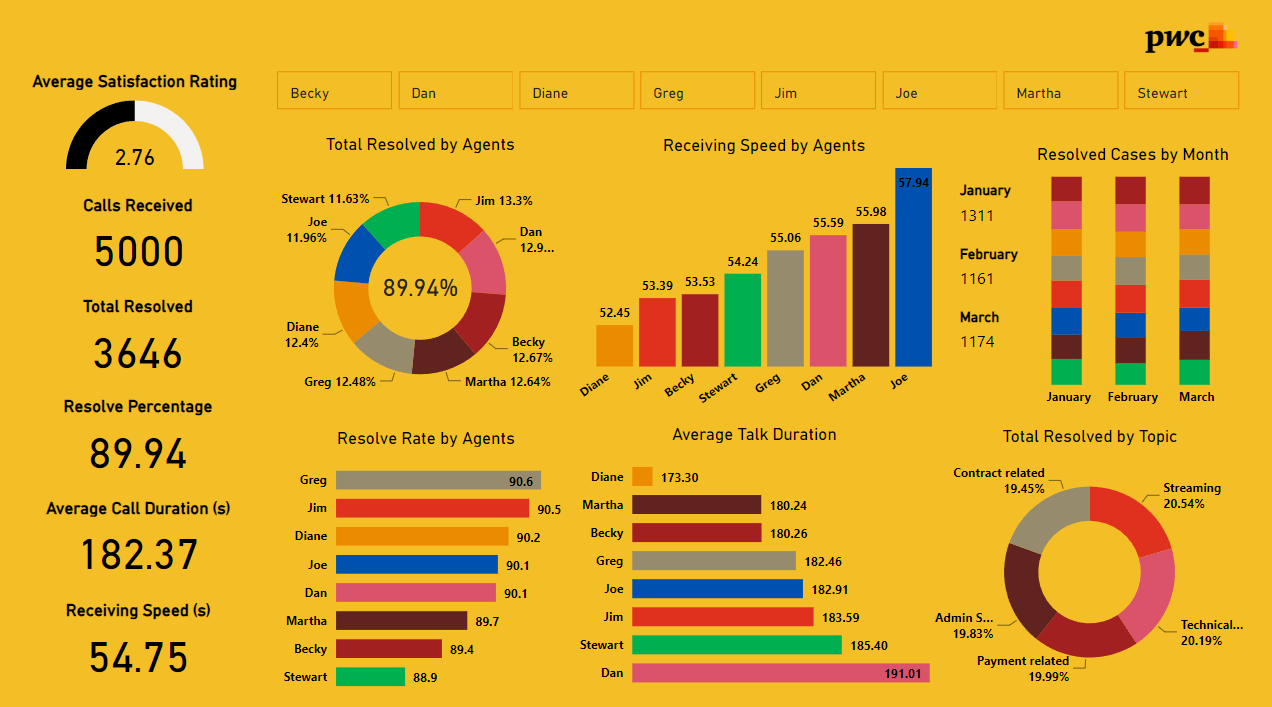

The dashboard page shown, as its layout file describes it:
{"tool":"powerbi","page":{"name":"Page 1","canvas":[1280,720],"ordinal":0},"visuals":[{"type":"gauge","title":"Average Satisfaction Rating","fields":{"Y":["Table1.Satisfaction rating"]},"box":[24,63.8,230,110],"z":0},{"type":"card","title":"Calls Received","fields":{"Values":["Table1.Answered (Y/N)"]},"box":[22.4,199.8,238.8,85.1],"z":1000},{"type":"card","title":"Total Resolved","fields":{"Values":["Table1.TotalResolved"]},"box":[22.4,301.3,238.8,85.1],"z":2000},{"type":"card","title":"Receiving Speed (s)","fields":{"Values":["Table1.Speed of answer in seconds"]},"box":[22.4,605.3,238.8,86.4],"z":3000},{"type":"card","title":"Average Call Duration (s)","fields":{"Values":["Table1.AvgTalkDuration"]},"box":[22.4,502.4,238.8,86.4],"z":4000},{"type":"card","title":"Resolve Percentage","fields":{"Values":["Table1.ResolveRate"]},"box":[22.4,400.8,238.8,85.1],"z":5000},{"type":"advancedSlicerVisual","fields":{"Values":["Table1.Agent"]},"box":[276.5,56.2,972.5,63.8],"z":6000},{"type":"donutChart","title":"Total Resolved by Agents","fields":{"Category":["Table1.Agent"],"Y":["Table1.TotalResolved"]},"box":[280.3,138.3,288.3,290],"z":7000},{"type":"columnChart","title":"Receiving Speed by Agents","fields":{"Category":["Table1.Agent"],"Y":["Table1.Speed of answer in seconds"]},"box":[577.8,140,381.2,288.8],"z":8000},{"type":"clusteredBarChart","title":"Average Talk Duration","fields":{"Category":["Table1.Agent"],"Y":["Table1.AvgTalkDuration"]},"box":[577.9,428.6,361.4,275.7],"z":9000},{"type":"multiRowCard","title":"Resolved Cases by Month","fields":{"Values":["Table1.Date.Variation.Date Hierarchy.Month","Table1.TotalResolved"]},"box":[959,181.2,81.2,203.8],"z":10000},{"type":"barChart","title":"Resolve Rate by Agents","fields":{"Category":["Table1.Agent"],"Y":["Table1.ResolveRate"]},"box":[280.7,432.9,297.1,275.7],"z":11000},{"type":"hundredPercentStackedColumnChart","title":"Resolved Cases by Month","fields":{"Category":["Table1.Date.Variation.Date Hierarchy.Month"],"Series":["Table1.Agent"],"Y":["Table1.TotalResolved"]},"box":[1025.3,148.8,223.8,271.2],"z":12000},{"type":"donutChart","title":"Total Resolved by Topic","fields":{"Category":["Table1.Topic"],"Y":["Divide(Table1.TotalResolved, ScopedEval(Table1.TotalResolved, []))"]},"box":[939.3,431.5,310,272.9],"z":13000},{"type":"image","box":[1135,11.2,120,62.5],"z":14000},{"type":"textbox","box":[372.8,273.8,103.8,45],"z":15000}]}

Visuals, with their boxes in screenshot pixels (x1, y1, x2, y2), scaled from the page's 1280x720 canvas onto the 1272x707 screenshot:
"Average Satisfaction Rating" gauge: {"x1": 24, "y1": 63, "x2": 252, "y2": 171}
"Calls Received" card: {"x1": 22, "y1": 196, "x2": 260, "y2": 280}
"Total Resolved" card: {"x1": 22, "y1": 296, "x2": 260, "y2": 379}
"Receiving Speed (s)" card: {"x1": 22, "y1": 594, "x2": 260, "y2": 679}
"Average Call Duration (s)" card: {"x1": 22, "y1": 493, "x2": 260, "y2": 578}
"Resolve Percentage" card: {"x1": 22, "y1": 394, "x2": 260, "y2": 477}
advancedSlicerVisual - Table1.Agent: {"x1": 275, "y1": 55, "x2": 1241, "y2": 118}
"Total Resolved by Agents" donutChart: {"x1": 279, "y1": 136, "x2": 565, "y2": 421}
"Receiving Speed by Agents" columnChart: {"x1": 574, "y1": 137, "x2": 953, "y2": 421}
"Average Talk Duration" clusteredBarChart: {"x1": 574, "y1": 421, "x2": 933, "y2": 692}
"Resolved Cases by Month" multiRowCard: {"x1": 953, "y1": 178, "x2": 1034, "y2": 378}
"Resolve Rate by Agents" barChart: {"x1": 279, "y1": 425, "x2": 574, "y2": 696}
"Resolved Cases by Month" hundredPercentStackedColumnChart: {"x1": 1019, "y1": 146, "x2": 1241, "y2": 412}
"Total Resolved by Topic" donutChart: {"x1": 933, "y1": 424, "x2": 1241, "y2": 692}
image: {"x1": 1128, "y1": 11, "x2": 1247, "y2": 72}
textbox: {"x1": 370, "y1": 269, "x2": 474, "y2": 313}
